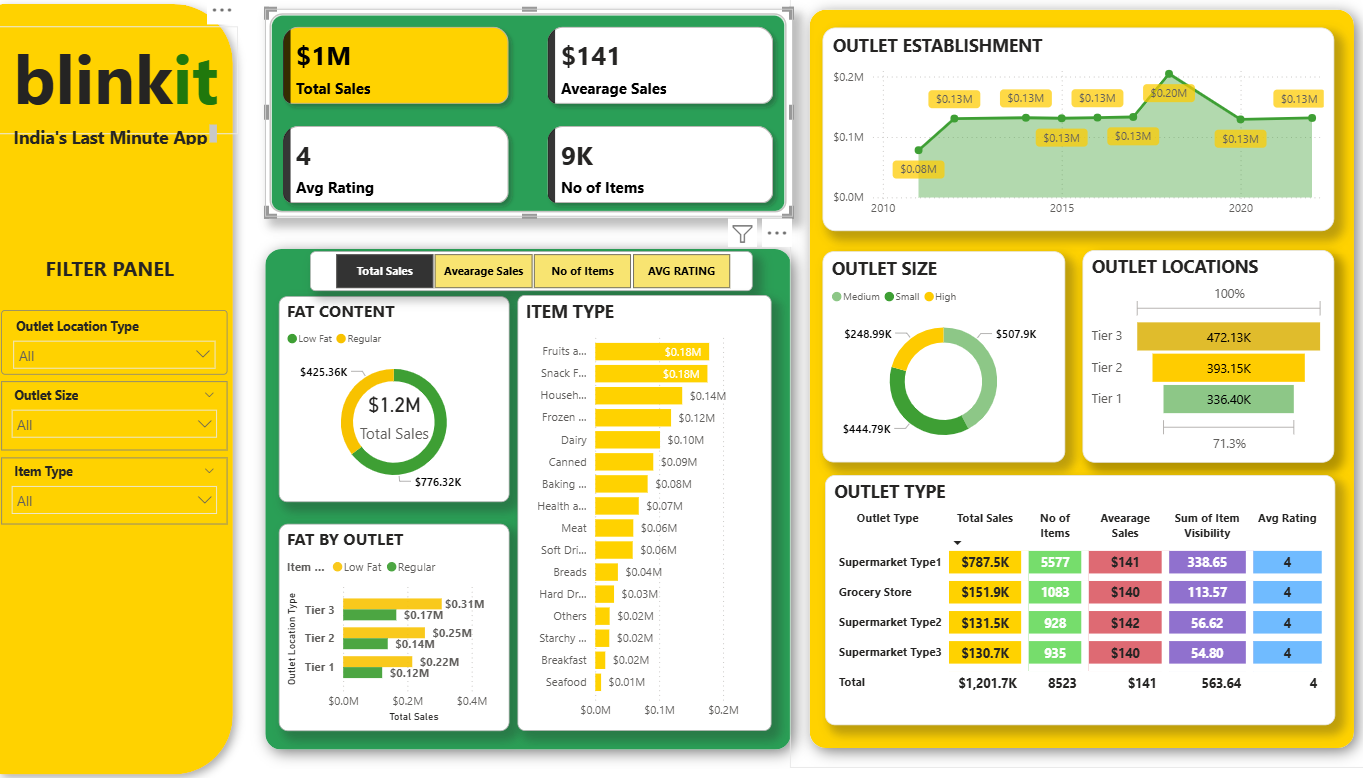

Layout of this report page (visuals, bound fields, positions):
{"tool":"powerbi","page":{"name":"Page 1","canvas":[1500,850],"ordinal":0},"visuals":[{"type":"shape","box":[20,0,280,850],"z":0},{"type":"textbox","box":[10,38.3,280,116.7],"z":1000},{"type":"textbox","box":[46.7,138.3,226.7,31.7],"z":2000},{"type":"actionButton","box":[0,0,99.6,40.4],"z":3000},{"type":"shape","box":[300,255,600,573.3],"z":4000},{"type":"donutChart","title":"FAT CONTENT","fields":{"Y":["BlinkIT Grocery Data.Total Sales"],"Category":["BlinkIT Grocery Data.Item Fat Content"]},"box":[333.5,326.3,245.4,219.4],"z":5000},{"type":"slicer","fields":{"Values":["Metrics.Metrics"]},"box":[367.1,278.6,465.7,40],"z":6000},{"type":"card","fields":{"Values":["BlinkIT Grocery Data.Total Sales"]},"box":[413.3,415,86.7,73.3],"z":7000},{"type":"clusteredBarChart","title":"FAT BY OUTLET","fields":{"Y":["BlinkIT Grocery Data.Total Sales"],"Category":["BlinkIT Grocery Data.Outlet Location Type"],"Series":["BlinkIT Grocery Data.Item Fat Content"]},"box":[333.5,568.8,245.4,220.9],"z":8000},{"type":"barChart","title":"ITEM TYPE","fields":{"Y":["BlinkIT Grocery Data.Total Sales"],"Category":["BlinkIT Grocery Data.Item Type"]},"box":[599.6,324.3,271.2,464.7],"z":9000},{"type":"shape","box":[878.3,0,621.7,828.3],"z":10000},{"type":"lineChart","title":"OUTLET ESTABLISHMENT","fields":{"Y":["BlinkIT Grocery Data.Total Sales"],"Category":["BlinkIT Grocery Data.Outlet Establishment Year"]},"box":[913.3,40,545,216.7],"z":11000},{"type":"donutChart","title":"OUTLET SIZE","fields":{"Y":["BlinkIT Grocery Data.Total Sales"],"Category":["BlinkIT Grocery Data.Outlet Size"]},"box":[913.3,278.3,258.3,225],"z":12000},{"type":"funnel","title":"OUTLET LOCATIONS","fields":{"Category":["BlinkIT Grocery Data.Outlet Location Type"],"Y":["Sum(BlinkIT Grocery Data.Sales)"]},"box":[1190,276.7,268.3,226.7],"z":13000},{"type":"pivotTable","title":"OUTLET TYPE","fields":{"Values":["BlinkIT Grocery Data.Total Sales","BlinkIT Grocery Data.No of Items","BlinkIT Grocery Data.Avearage Sales","Sum(BlinkIT Grocery Data.Item Visibility)","BlinkIT Grocery Data.AVG RATING"],"Rows":["BlinkIT Grocery Data.Outlet Type"]},"box":[915,516.7,543.3,266.7],"z":14000},{"type":"slicer","fields":{"Values":["BlinkIT Grocery Data.Outlet Location Type"]},"box":[38.1,340.5,240.5,69],"z":15000},{"type":"slicer","fields":{"Values":["BlinkIT Grocery Data.Outlet Size"]},"box":[38.1,416.7,240.5,73.8],"z":16000},{"type":"slicer","fields":{"Values":["BlinkIT Grocery Data.Item Type"]},"box":[38.1,497.6,240.5,71.4],"z":17000},{"type":"textbox","box":[50,276.2,207.1,42.9],"z":18000},{"type":"cardVisual","fields":{"Data":["BlinkIT Grocery Data.Total Sales","BlinkIT Grocery Data.Avearage Sales","BlinkIT Grocery Data.Avg Rating","BlinkIT Grocery Data.No of Items"]},"box":[318.9,20.4,561.4,222.1],"z":19000}]}

Visuals, with their boxes in screenshot pixels (x1, y1, x2, y2), scaled from the page's 1500x850 canvas onto the 1363x778 screenshot:
shape: [18,0,273,777]
textbox: [9,35,264,142]
textbox: [42,127,248,156]
actionButton: [0,0,91,37]
shape: [273,233,818,758]
"FAT CONTENT" donutChart: [303,299,526,499]
slicer - Metrics.Metrics: [334,255,757,292]
card - BlinkIT Grocery Data.Total Sales: [376,380,454,447]
"FAT BY OUTLET" clusteredBarChart: [303,521,526,723]
"ITEM TYPE" barChart: [545,297,791,722]
shape: [798,0,1362,758]
"OUTLET ESTABLISHMENT" lineChart: [830,37,1325,235]
"OUTLET SIZE" donutChart: [830,255,1065,461]
"OUTLET LOCATIONS" funnel: [1081,253,1325,461]
"OUTLET TYPE" pivotTable: [831,473,1325,717]
slicer - BlinkIT Grocery Data.Outlet Location Type: [35,312,253,375]
slicer - BlinkIT Grocery Data.Outlet Size: [35,381,253,449]
slicer - BlinkIT Grocery Data.Item Type: [35,455,253,521]
textbox: [45,253,234,292]
cardVisual - BlinkIT Grocery Data.Total Sales x BlinkIT Grocery Data.Avearage Sales: [290,19,800,222]
